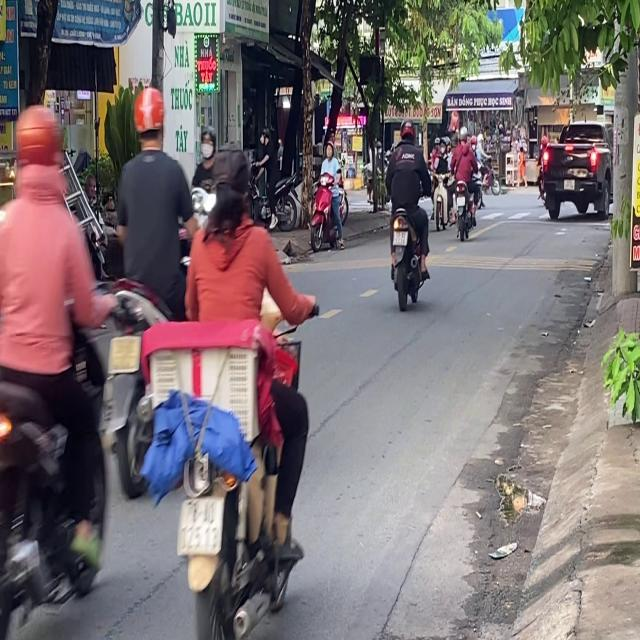helmet: (11, 102, 64, 191), (132, 86, 166, 150), (199, 125, 216, 161), (399, 117, 414, 142)
licenseplate: (133, 130, 317, 634), (0, 98, 115, 634), (95, 83, 203, 505), (384, 116, 432, 307)
motorcyclist: (208, 142, 254, 217)
nohelmet: (176, 498, 222, 554), (109, 336, 139, 371), (393, 230, 407, 245)
